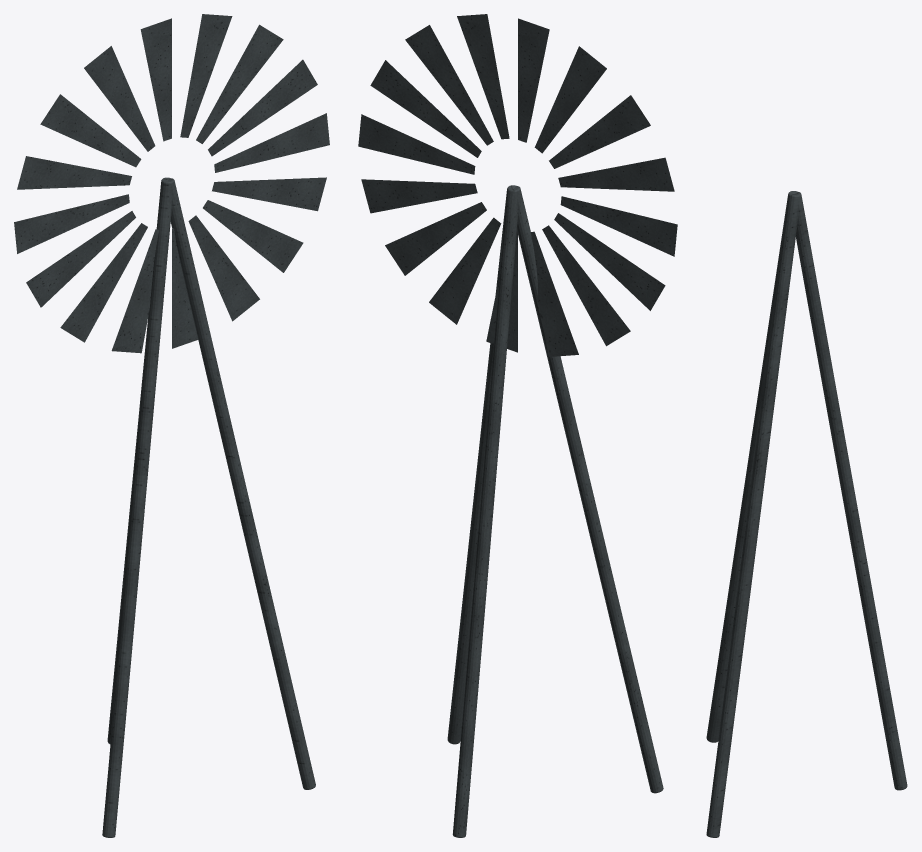
The model's file is PROP-5DA0FFA05D33_lod0.glb.
3 renders of one model, left to right at view 1: azimuth 30°, elevation 25°; view 2: azimuth 150°, elevation 25°; view 3: azimuth 270°, elevation 25°, orthographic. The views are drawn at different scales.
Visible parts, largest first — view 1: windmill_sails, windmill_tower; view 2: windmill_sails, windmill_tower; view 3: windmill_tower.
Boxes of the visible parts, x1,y1,x2,y2 form: windmill_sails: (14, 14, 329, 353); windmill_tower: (102, 177, 315, 837); windmill_sails: (358, 14, 677, 356); windmill_tower: (447, 185, 663, 837); windmill_tower: (706, 191, 907, 837).
Bounding box in the file's own units: 2.2 × 5.11 × 1.23.
1 material, 1 textured.
